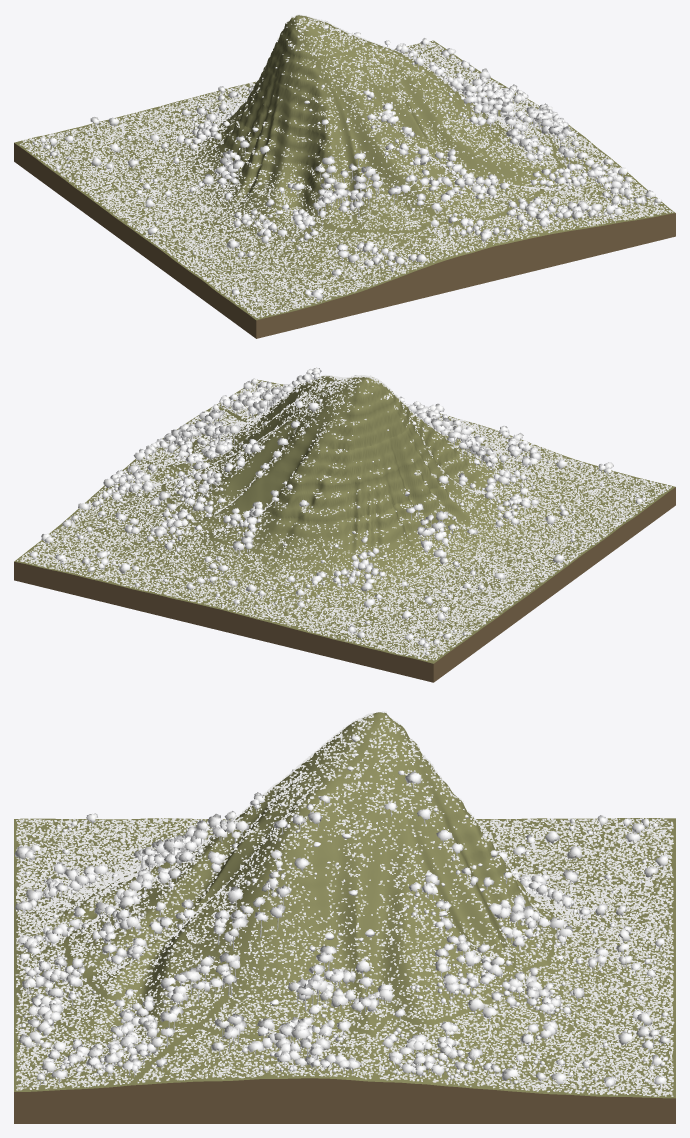
The model's file is contour-mountain.glb.
3 views of the same model, one above another, from view 1: azimuth 30°, elevation 25°; view 2: azimuth 150°, elevation 25°; view 3: azimuth 270°, elevation 25° (orthographic). The views are drawn at different scales.
Visible parts, largest first — view 1: Base, Slice_1, Slice_2, Slice_3, Slice_4, Slice_5; view 2: Base, Slice_1, Slice_2, Slice_3, Slice_4, Slice_5; view 3: Base, Slice_1, Slice_2, Slice_3, Slice_4, Slice_5.
Boxes of the visible parts, box(x1,y1,x2,y2) form: Base: box(14, 38, 675, 338); Slice_1: box(218, 90, 561, 232); Slice_2: box(240, 77, 499, 182); Slice_3: box(255, 57, 466, 138); Slice_4: box(269, 21, 432, 98); Slice_5: box(279, 14, 369, 58); Base: box(14, 378, 675, 682); Slice_1: box(162, 397, 502, 560); Slice_2: box(218, 380, 461, 520); Slice_3: box(256, 375, 433, 485); Slice_4: box(287, 367, 411, 449); Slice_5: box(321, 375, 395, 415); Base: box(14, 813, 675, 1123); Slice_1: box(64, 820, 554, 1037); Slice_2: box(148, 813, 518, 966); Slice_3: box(207, 792, 492, 909); Slice_4: box(261, 747, 458, 853); Slice_5: box(312, 711, 421, 784).
Size of the model in its own units: 4.4 by 1.82 by 4.4.
